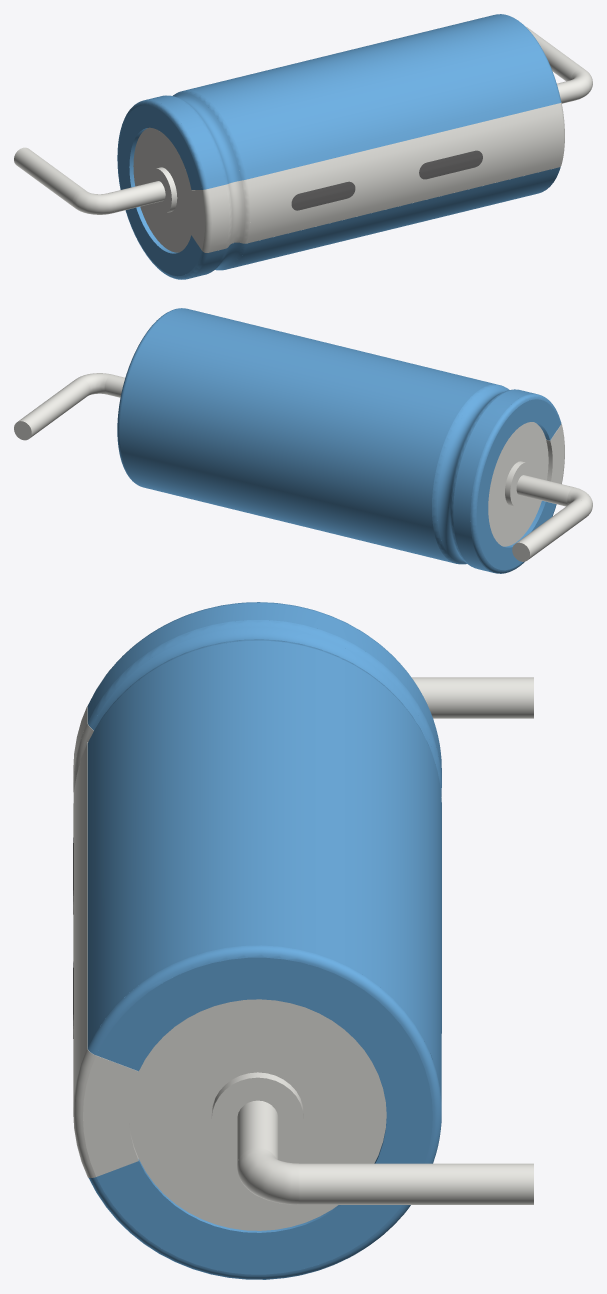
Rendered from CP_Axial_L18.0mm_D8.0mm_P25.00mm_Horizontal.glb.
3 views of the same model, one above another, from view 1: azimuth 30°, elevation 25°; view 2: azimuth 150°, elevation 25°; view 3: azimuth 270°, elevation 25° (orthographic). The views are drawn at different scales.
Visible parts, largest first — view 1: Shape_IndexedFaceSet.009, Shape_IndexedFaceSet.049, Shape_IndexedFaceSet.006, Shape_IndexedFaceSet.064, Shape_IndexedFaceSet, Shape_IndexedFaceSet.005, Shape_IndexedFaceSet.051, Shape_IndexedFaceSet.053, Shape_IndexedFaceSet.003, Shape_IndexedFaceSet.035, Shape_IndexedFaceSet.018, Shape_IndexedFaceSet.028 (+11 smaller); view 2: Shape_IndexedFaceSet.009, Shape_IndexedFaceSet.064, Shape_IndexedFaceSet.006, Shape_IndexedFaceSet, Shape_IndexedFaceSet.005, Shape_IndexedFaceSet.003, Shape_IndexedFaceSet.055, Shape_IndexedFaceSet.051, Shape_IndexedFaceSet.053, Shape_IndexedFaceSet.007, Shape_IndexedFaceSet.002, Shape_IndexedFaceSet.041 (+3 smaller); view 3: Shape_IndexedFaceSet.009, Shape_IndexedFaceSet.059, Shape_IndexedFaceSet.012, Shape_IndexedFaceSet.055, Shape_IndexedFaceSet.011, Shape_IndexedFaceSet, Shape_IndexedFaceSet.046, Shape_IndexedFaceSet.051, Shape_IndexedFaceSet.049, Shape_IndexedFaceSet.005, Shape_IndexedFaceSet.057, Shape_IndexedFaceSet.002 (+3 smaller).
Part boxes in pixels (<box>): Shape_IndexedFaceSet.009: <box>185,14,558,268</box>; Shape_IndexedFaceSet.049: <box>247,103,562,243</box>; Shape_IndexedFaceSet.006: <box>118,105,201,276</box>; Shape_IndexedFaceSet.064: <box>133,127,193,252</box>; Shape_IndexedFaceSet: <box>146,95,225,278</box>; Shape_IndexedFaceSet.005: <box>173,93,241,269</box>; Shape_IndexedFaceSet.051: <box>14,147,85,206</box>; Shape_IndexedFaceSet.053: <box>108,80,577,213</box>; Shape_IndexedFaceSet.003: <box>117,100,207,279</box>; Shape_IndexedFaceSet.035: <box>208,185,228,252</box>; Shape_IndexedFaceSet.018: <box>291,181,355,210</box>; Shape_IndexedFaceSet.028: <box>419,150,482,179</box>; Shape_IndexedFaceSet.009: <box>119,308,496,563</box>; Shape_IndexedFaceSet.064: <box>488,422,548,546</box>; Shape_IndexedFaceSet.006: <box>476,399,560,570</box>; Shape_IndexedFaceSet: <box>453,389,535,572</box>; Shape_IndexedFaceSet.005: <box>437,387,508,563</box>; Shape_IndexedFaceSet.003: <box>470,394,561,573</box>; Shape_IndexedFaceSet.055: <box>18,378,90,437</box>; Shape_IndexedFaceSet.051: <box>517,499,588,559</box>; Shape_IndexedFaceSet.053: <box>104,374,573,506</box>; Shape_IndexedFaceSet.007: <box>432,384,509,564</box>; Shape_IndexedFaceSet.002: <box>450,389,515,566</box>; Shape_IndexedFaceSet.041: <box>550,425,564,483</box>; Shape_IndexedFaceSet.009: <box>87,641,441,1101</box>; Shape_IndexedFaceSet.059: <box>129,999,386,1230</box>; Shape_IndexedFaceSet.012: <box>96,957,432,1274</box>; Shape_IndexedFaceSet.055: <box>299,1163,533,1204</box>; Shape_IndexedFaceSet.011: <box>87,945,441,1279</box>; Shape_IndexedFaceSet: <box>87,603,441,781</box>; Shape_IndexedFaceSet.046: <box>83,1056,138,1176</box>; Shape_IndexedFaceSet.051: <box>411,677,533,718</box>; Shape_IndexedFaceSet.049: <box>73,744,87,1106</box>; Shape_IndexedFaceSet.005: <box>91,627,435,763</box>; Shape_IndexedFaceSet.057: <box>211,1077,303,1156</box>; Shape_IndexedFaceSet.002: <box>88,620,441,797</box>.
Bounding box in the file's own units: 10.19 × 3.15 × 3.94.
